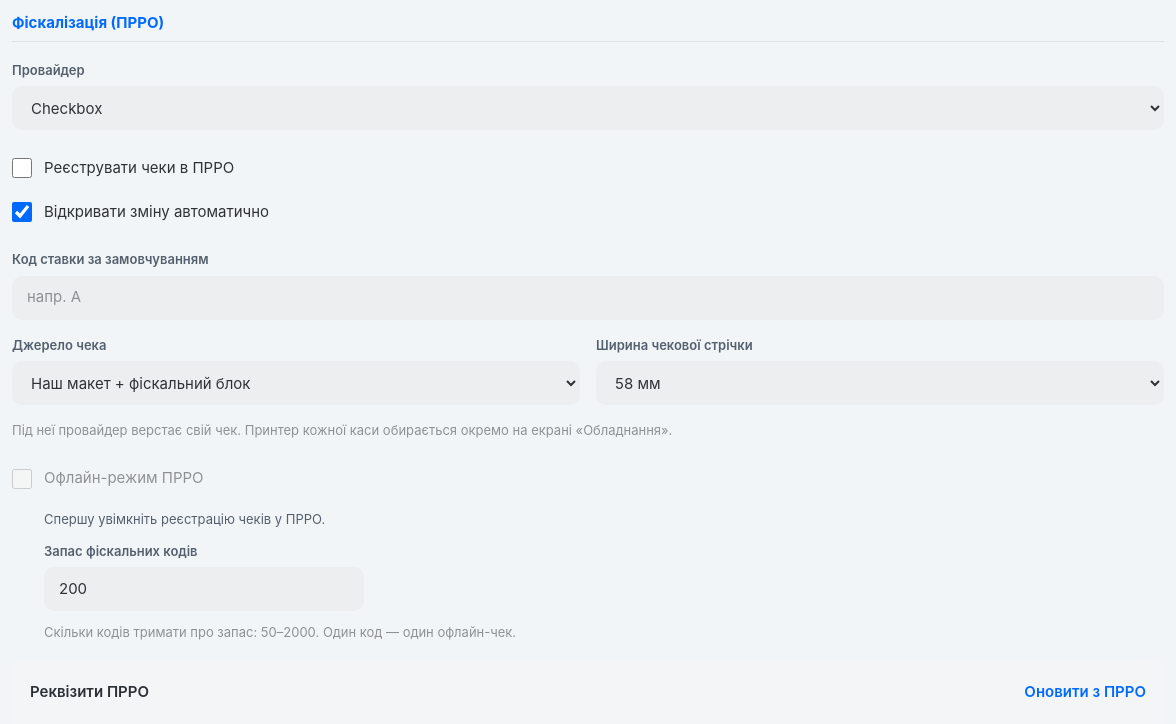
FiscalSettingsCard › keeps offline mode locked until fiscalisation itself is on
Expected: the checkbox labelled "Офлайн-режим ПРРО" is disabled, [12, 468, 32, 488]
Expected: the text "Спершу увімкніть реєстрацію чеків у ПРРО." is shown, [44, 510, 325, 526]
Step 1. Click the checkbox labelled "Реєструвати чеки в ПРРО" → (22, 168), box [12, 158, 32, 178]
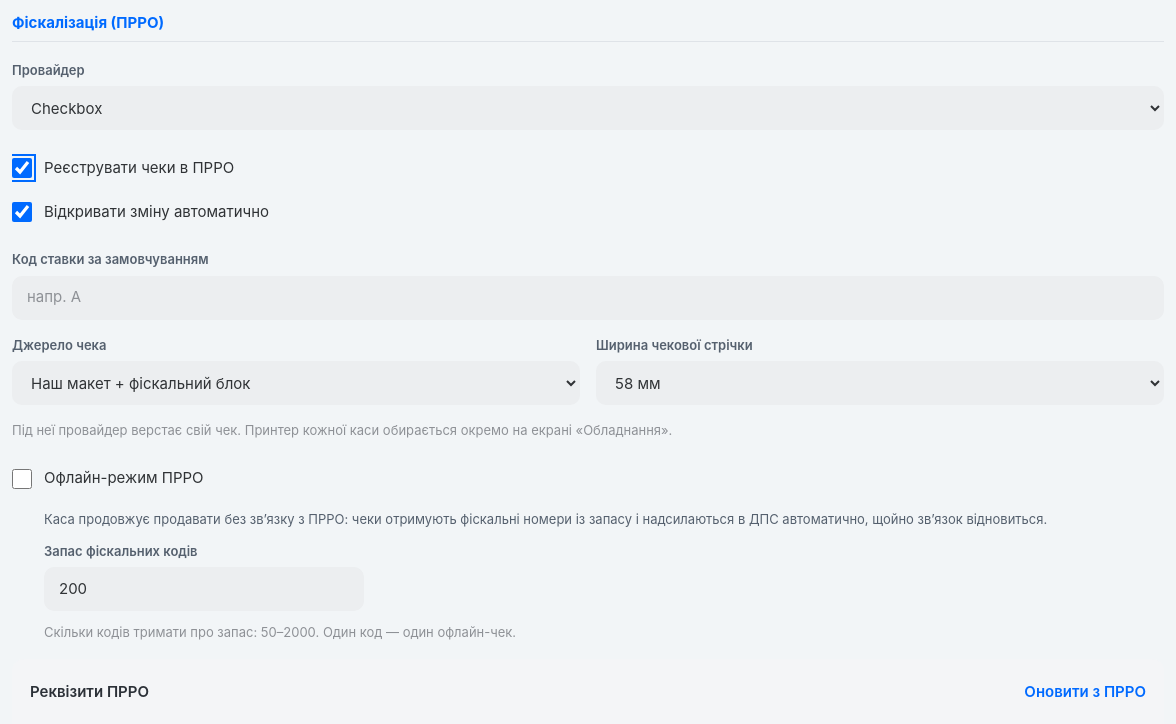
Now the checkbox labelled "Офлайн-режим ПРРО" is enabled, box [12, 468, 32, 488]
